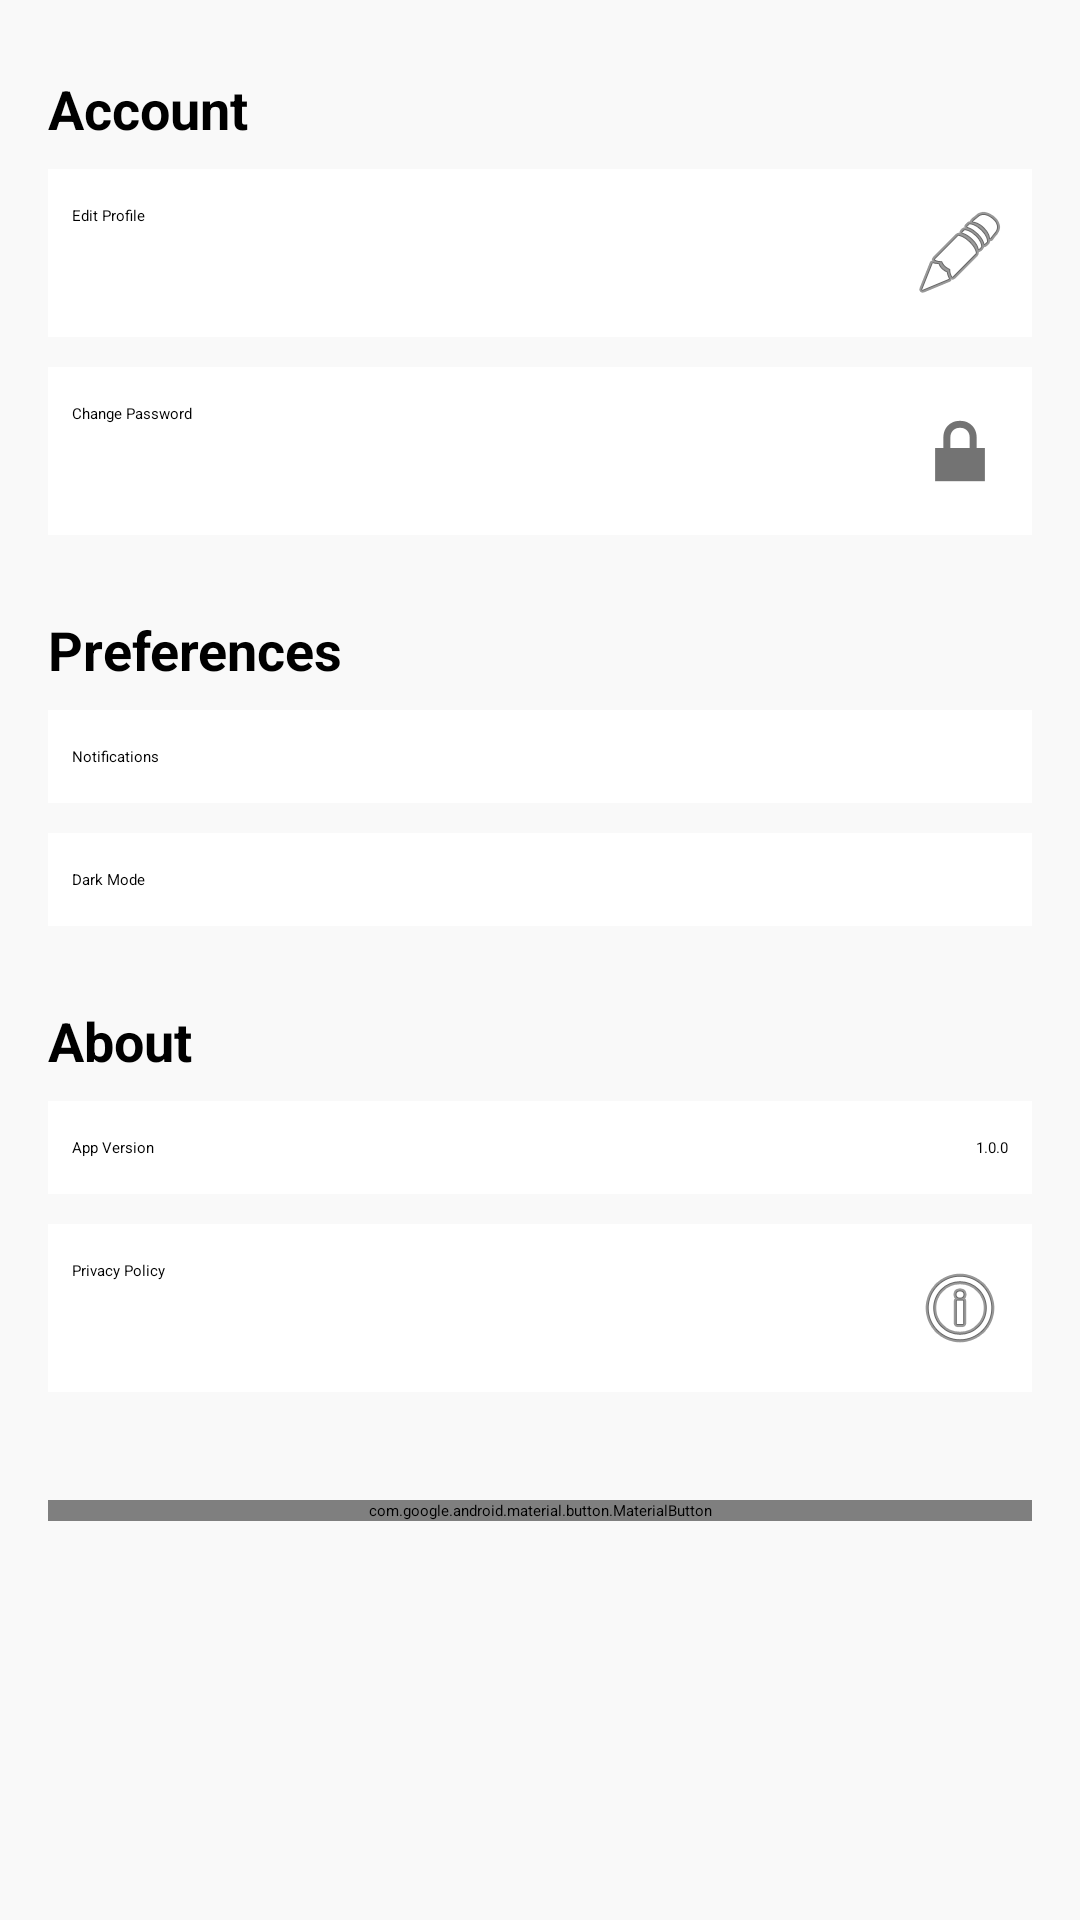

Locate icon controls on the screen. Image size 1080px×1920px, boxes as (x1, y1, x2, y2).
info details: (925, 1273, 995, 1343)
lock: (935, 420, 985, 482)
